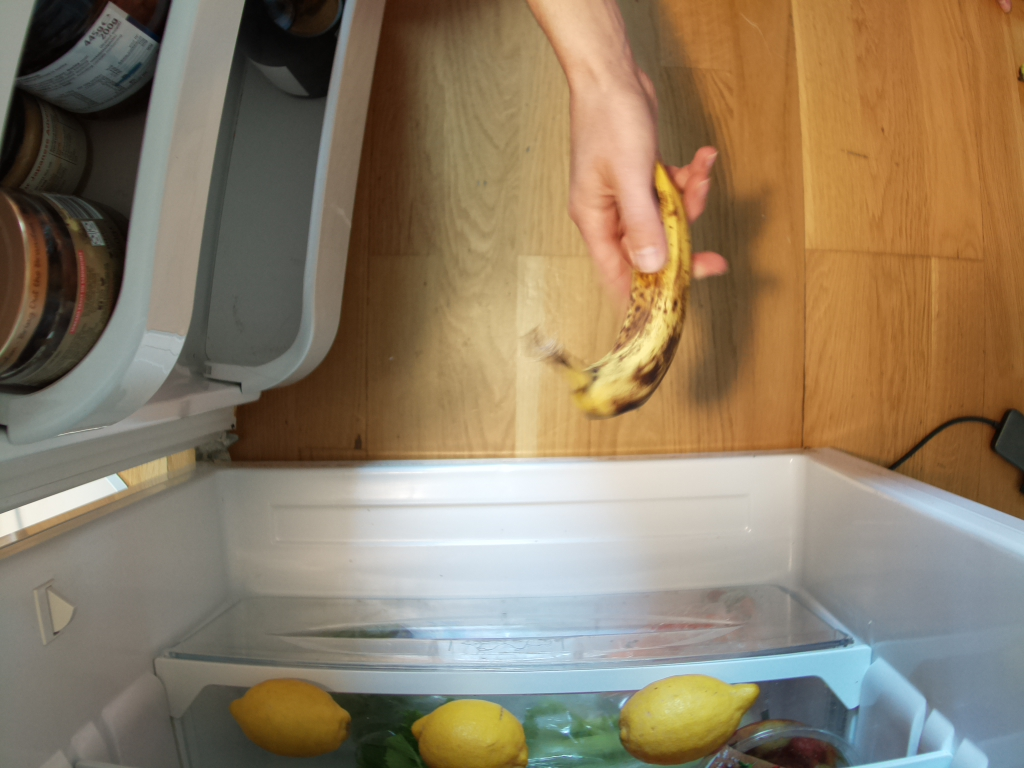banana-overripe: (531, 152, 687, 417)
